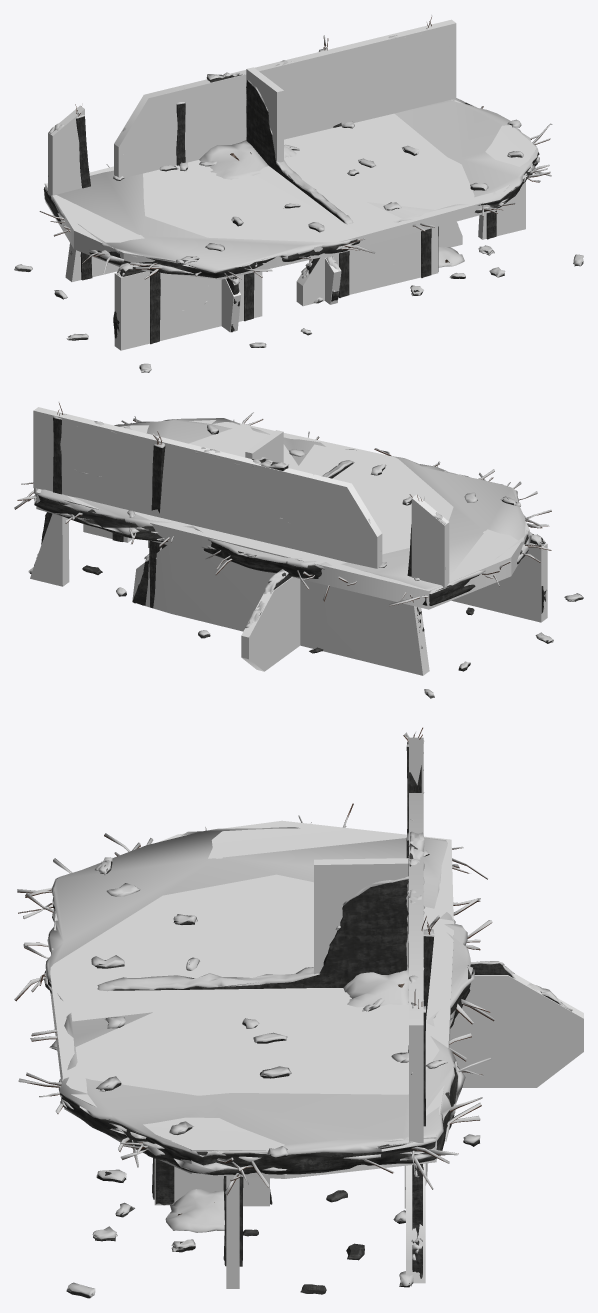
File: House-Window.fbx
3 views of the same model, one above another, from view 1: azimuth 30°, elevation 25°; view 2: azimuth 150°, elevation 25°; view 3: azimuth 270°, elevation 25° (orthographic). The views are drawn at different scales.
Visible parts, largest first — view 1: house-window_col, snow, house-window; view 2: house-window_col, snow, house-window; view 3: house-window_col, snow, house-window.
Boxes of the visible parts, x1,y1,x2,y2 form: house-window_col: (45, 19, 537, 350); snow: (14, 14, 583, 372); house-window: (16, 17, 583, 372); house-window_col: (30, 407, 547, 675); snow: (14, 401, 583, 697); house-window: (15, 403, 583, 698); house-window_col: (50, 737, 583, 1288); snow: (14, 731, 572, 1297); house-window: (15, 727, 559, 1298).
Bounding box in the file's own units: 793 × 279 × 520.
